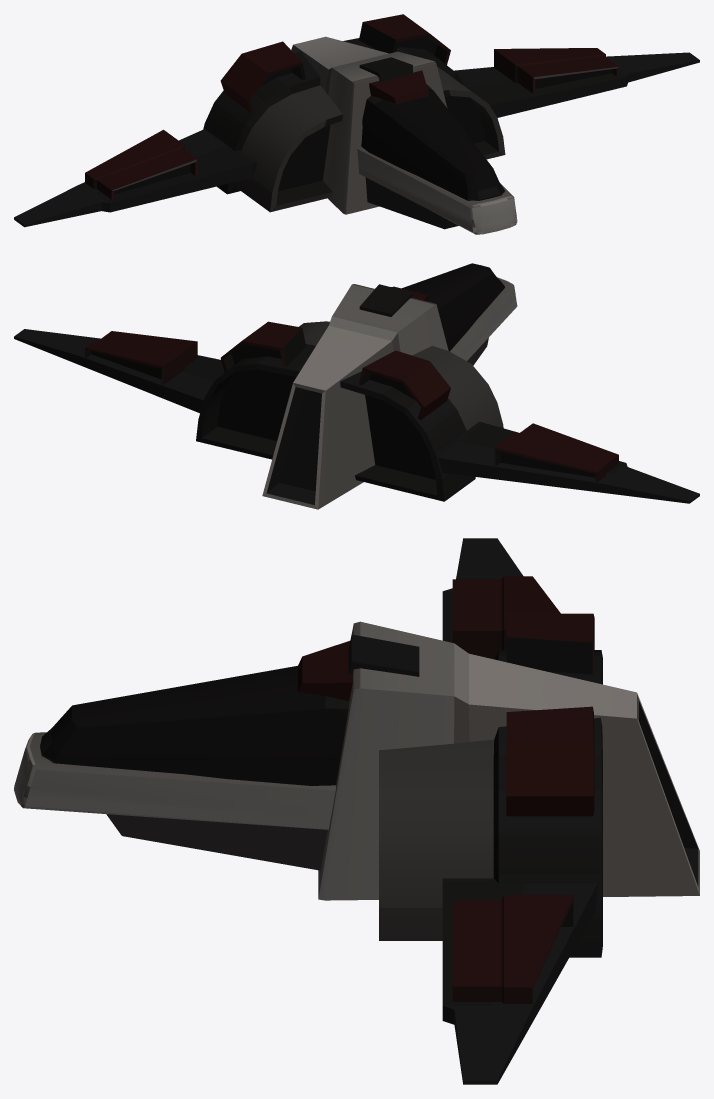
File: bob.obj
The picture shows the model from 3 angles, top to bottom: view 1: azimuth 30°, elevation 25°; view 2: azimuth 150°, elevation 25°; view 3: azimuth 270°, elevation 25°; orthographic projection. The views are drawn at different scales.
Parts seen in each view (by area): view 1: Bob_Cube.005; view 2: Bob_Cube.005; view 3: Bob_Cube.005.
Part boxes in pixels (<box>): Bob_Cube.005: <box>14,14,699,234</box>; Bob_Cube.005: <box>14,263,699,509</box>; Bob_Cube.005: <box>14,538,699,1084</box>.
Size of the model in its own units: 10.5 by 2.04 by 5.61.
